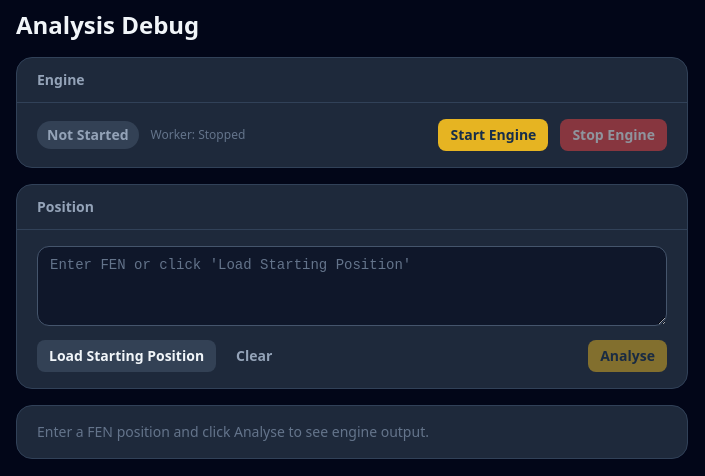
Test case: AnalysisPage › displays error banner for bad FEN
Step 1. Click the button "Start Engine" → (493,135), box x1=438 y1=119 x2=548 y2=151
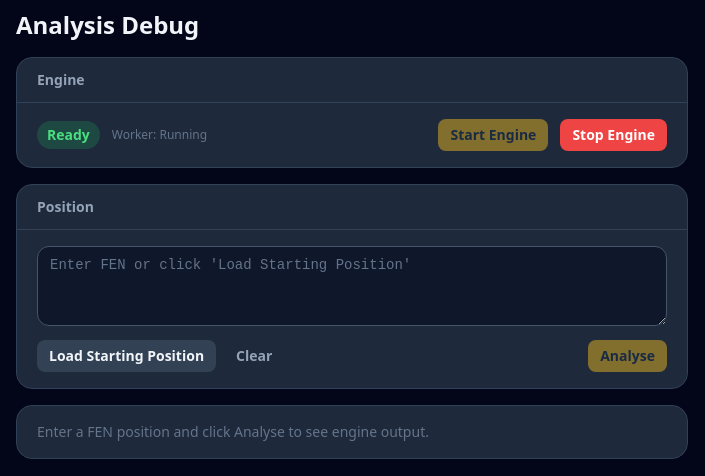
Result: the text "Ready" is shown at x1=37 y1=121 x2=100 y2=149
Note: Type something simple
Step 2. Type "bad stuff" into the text box with placeholder "Enter FEN or click 'Load Starting Position'" → (352,286), box x1=37 y1=246 x2=667 y2=326
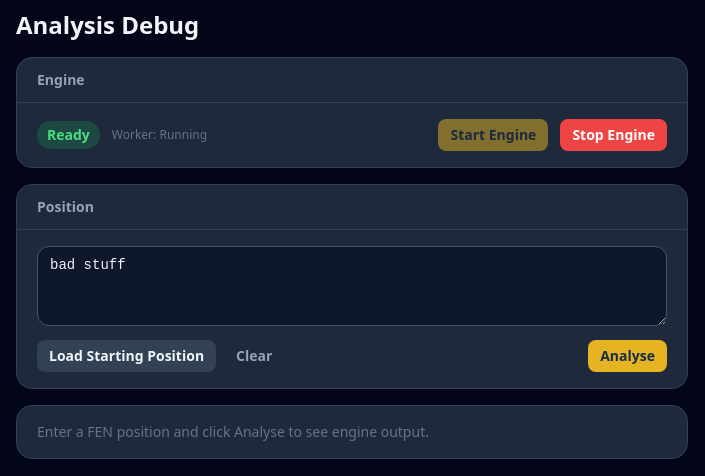
Step 3. Click the button "Analyse" → (628,356), box x1=588 y1=340 x2=667 y2=372
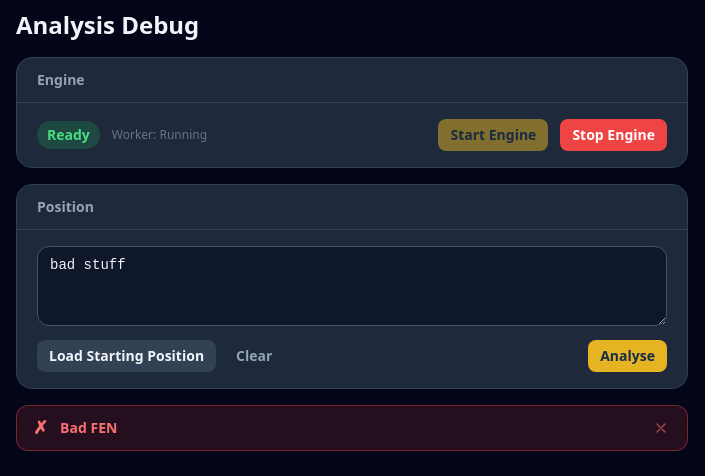
Result: the text "Bad FEN" is shown at x1=60 y1=418 x2=117 y2=437
